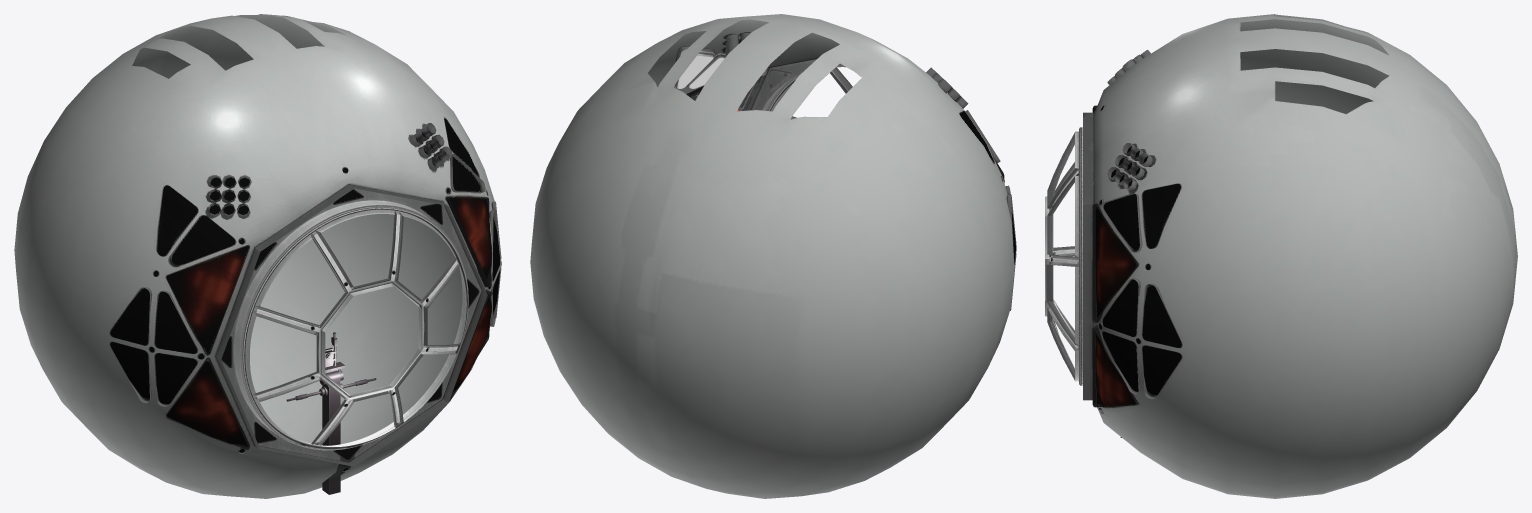
The model's file is cockpit.glb.
3 views of the same model, side by side, from view 1: azimuth 30°, elevation 25°; view 2: azimuth 150°, elevation 25°; view 3: azimuth 270°, elevation 25° (orthographic).
Parts seen in each view (by area): view 1: Object_2, Object_3; view 2: Object_2, Object_3; view 3: Object_2, Object_3.
Boxes of the visible parts, x1,y1,x2,y2 form: Object_2: (14, 14, 501, 498); Object_3: (110, 120, 501, 494); Object_2: (530, 14, 1015, 498); Object_3: (674, 33, 1016, 310); Object_2: (1093, 14, 1517, 498); Object_3: (1045, 50, 1182, 437).
Size of the model in its own units: 2.13 by 2.13 by 2.08.
Materials: 2 (2 with a texture image).
